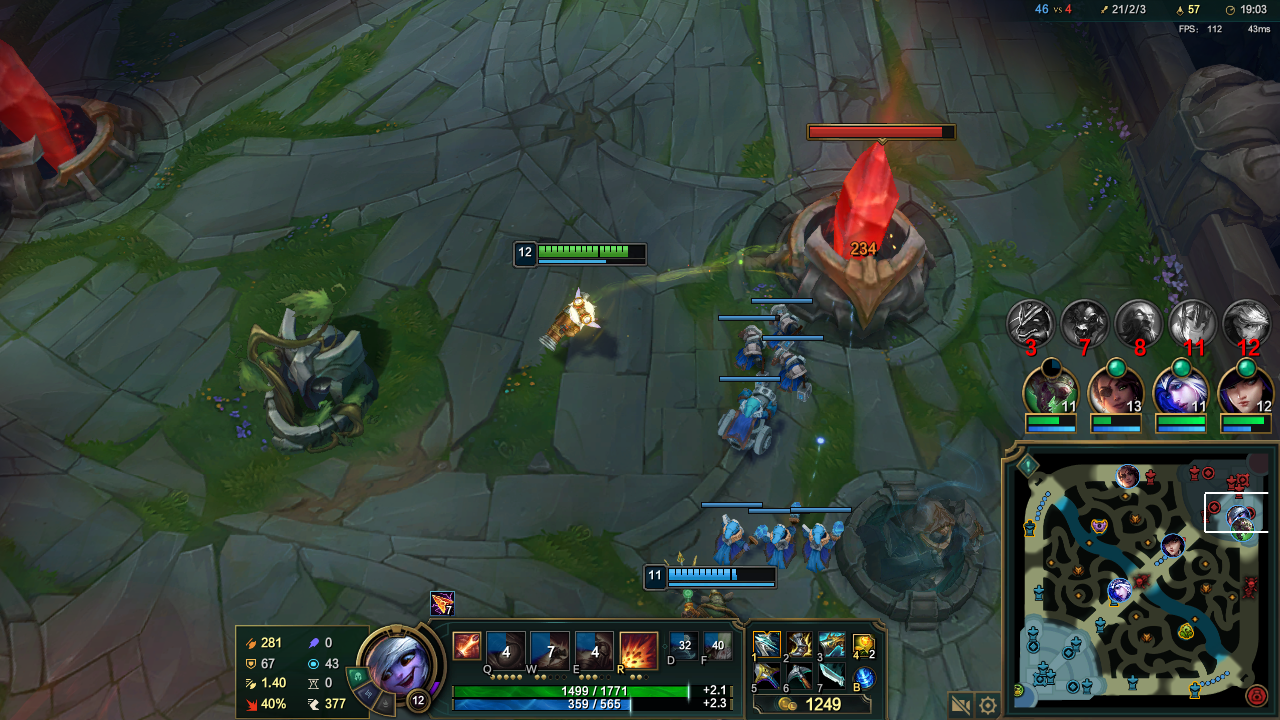DFSJ: (783, 118, 963, 322)
WFXB: (714, 382, 786, 461), (748, 504, 800, 576), (796, 517, 848, 575), (706, 515, 758, 568), (768, 346, 808, 399), (732, 325, 769, 377), (766, 306, 808, 348)
